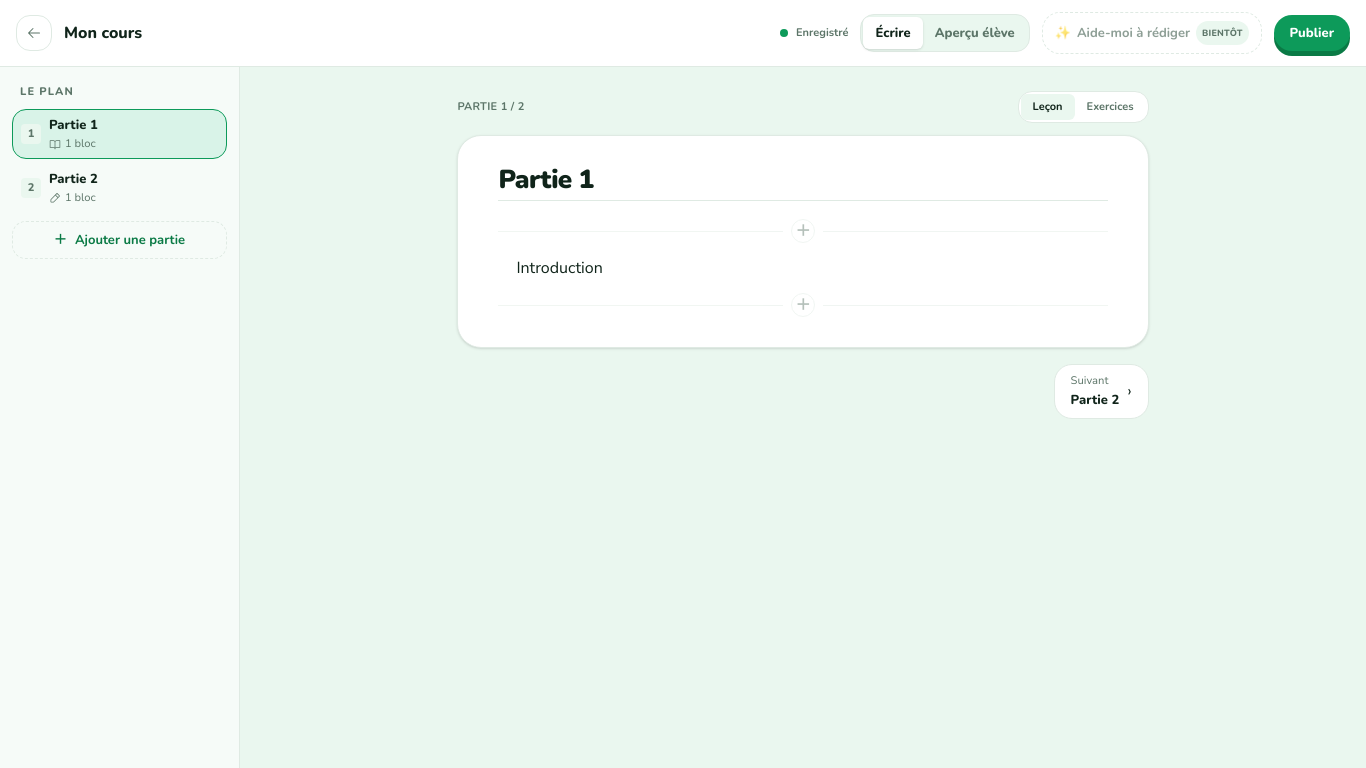
EditeurCours — validation avant publication › mène au champ fautif d’une autre partie et le signale sur son bloc
Expected: the field named "Titre du cours" is shown, 64,21 -> 768,45
Click the button "Publier" at (1312, 33), box 1274,15 -> 1350,51
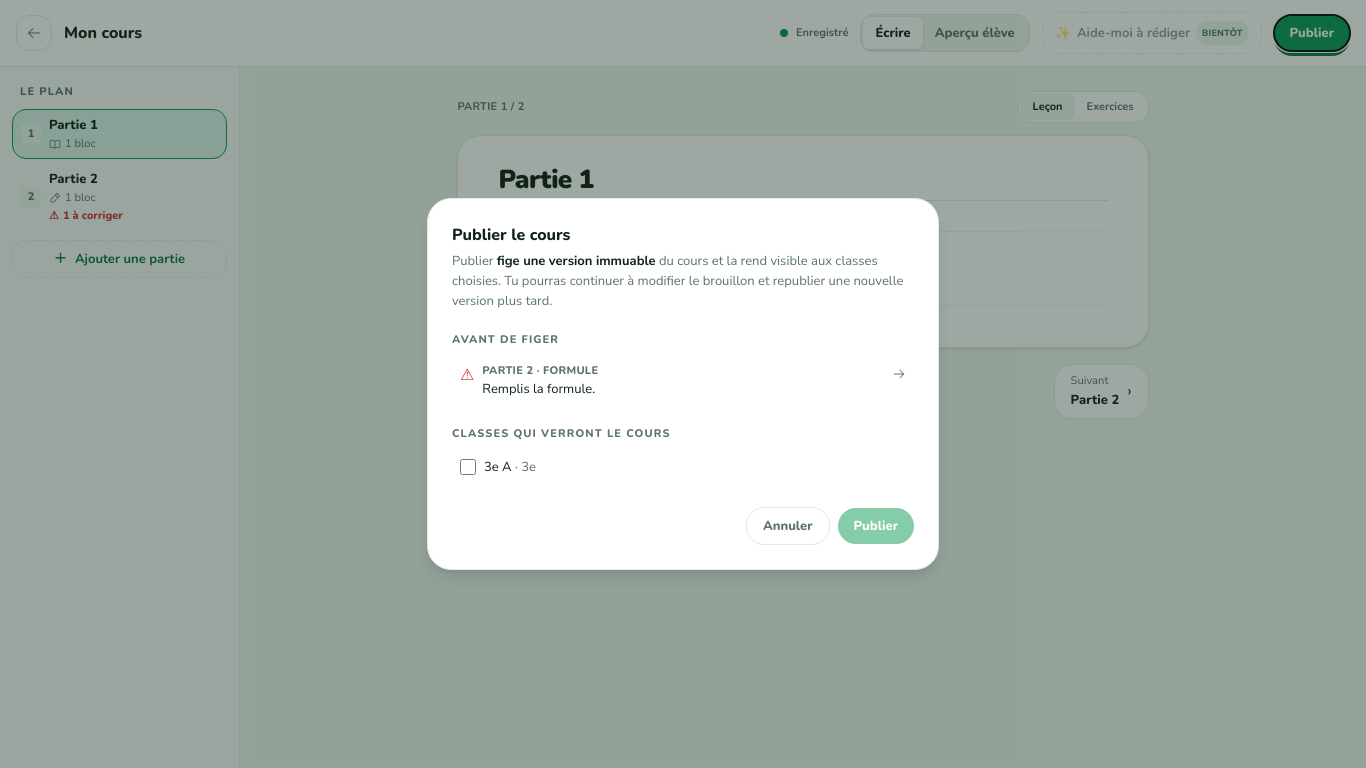
Click the button "⚠ Partie 2 · Formule Remplis la formule." at (540, 370), box 452,357 -> 914,405
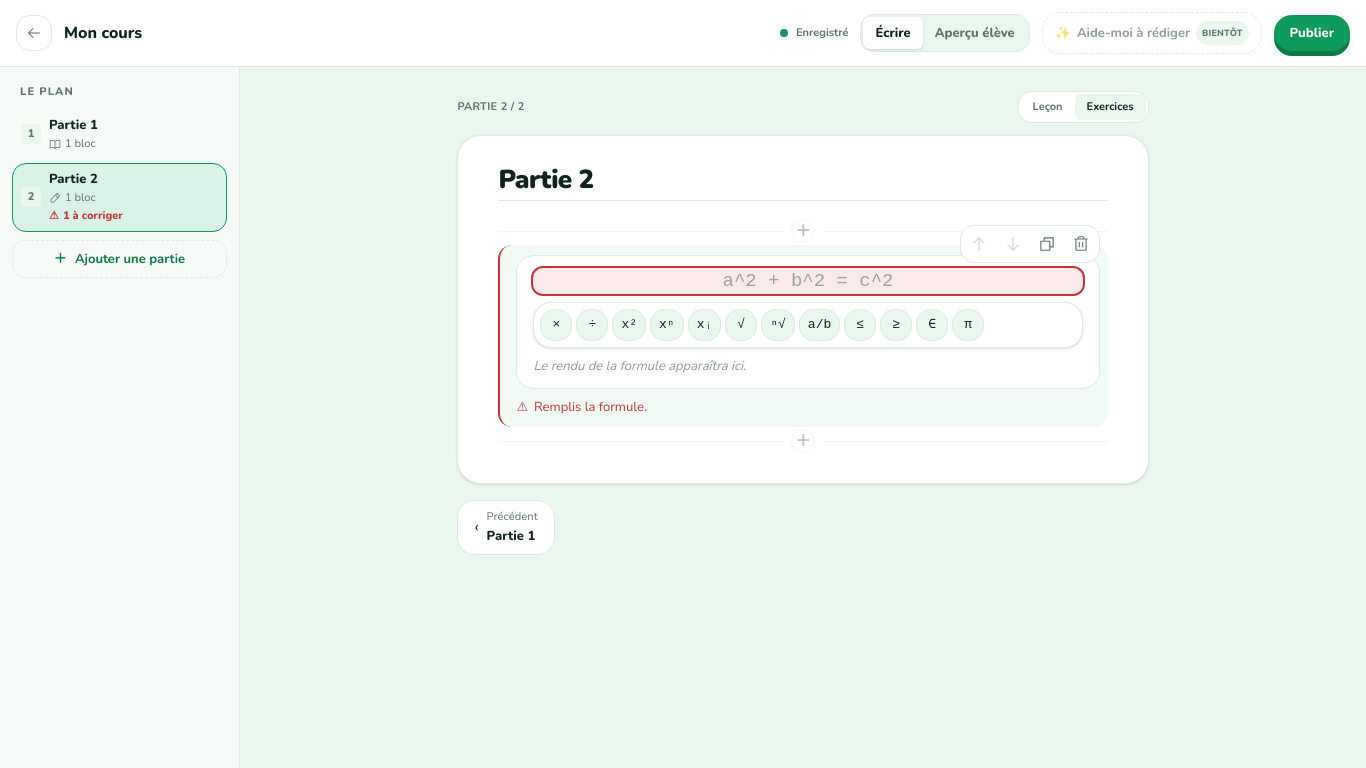
Result: the dialog is gone
Result: the list named "À corriger avant de publier" shows "Remplis la formule." at 534,398 -> 647,416
